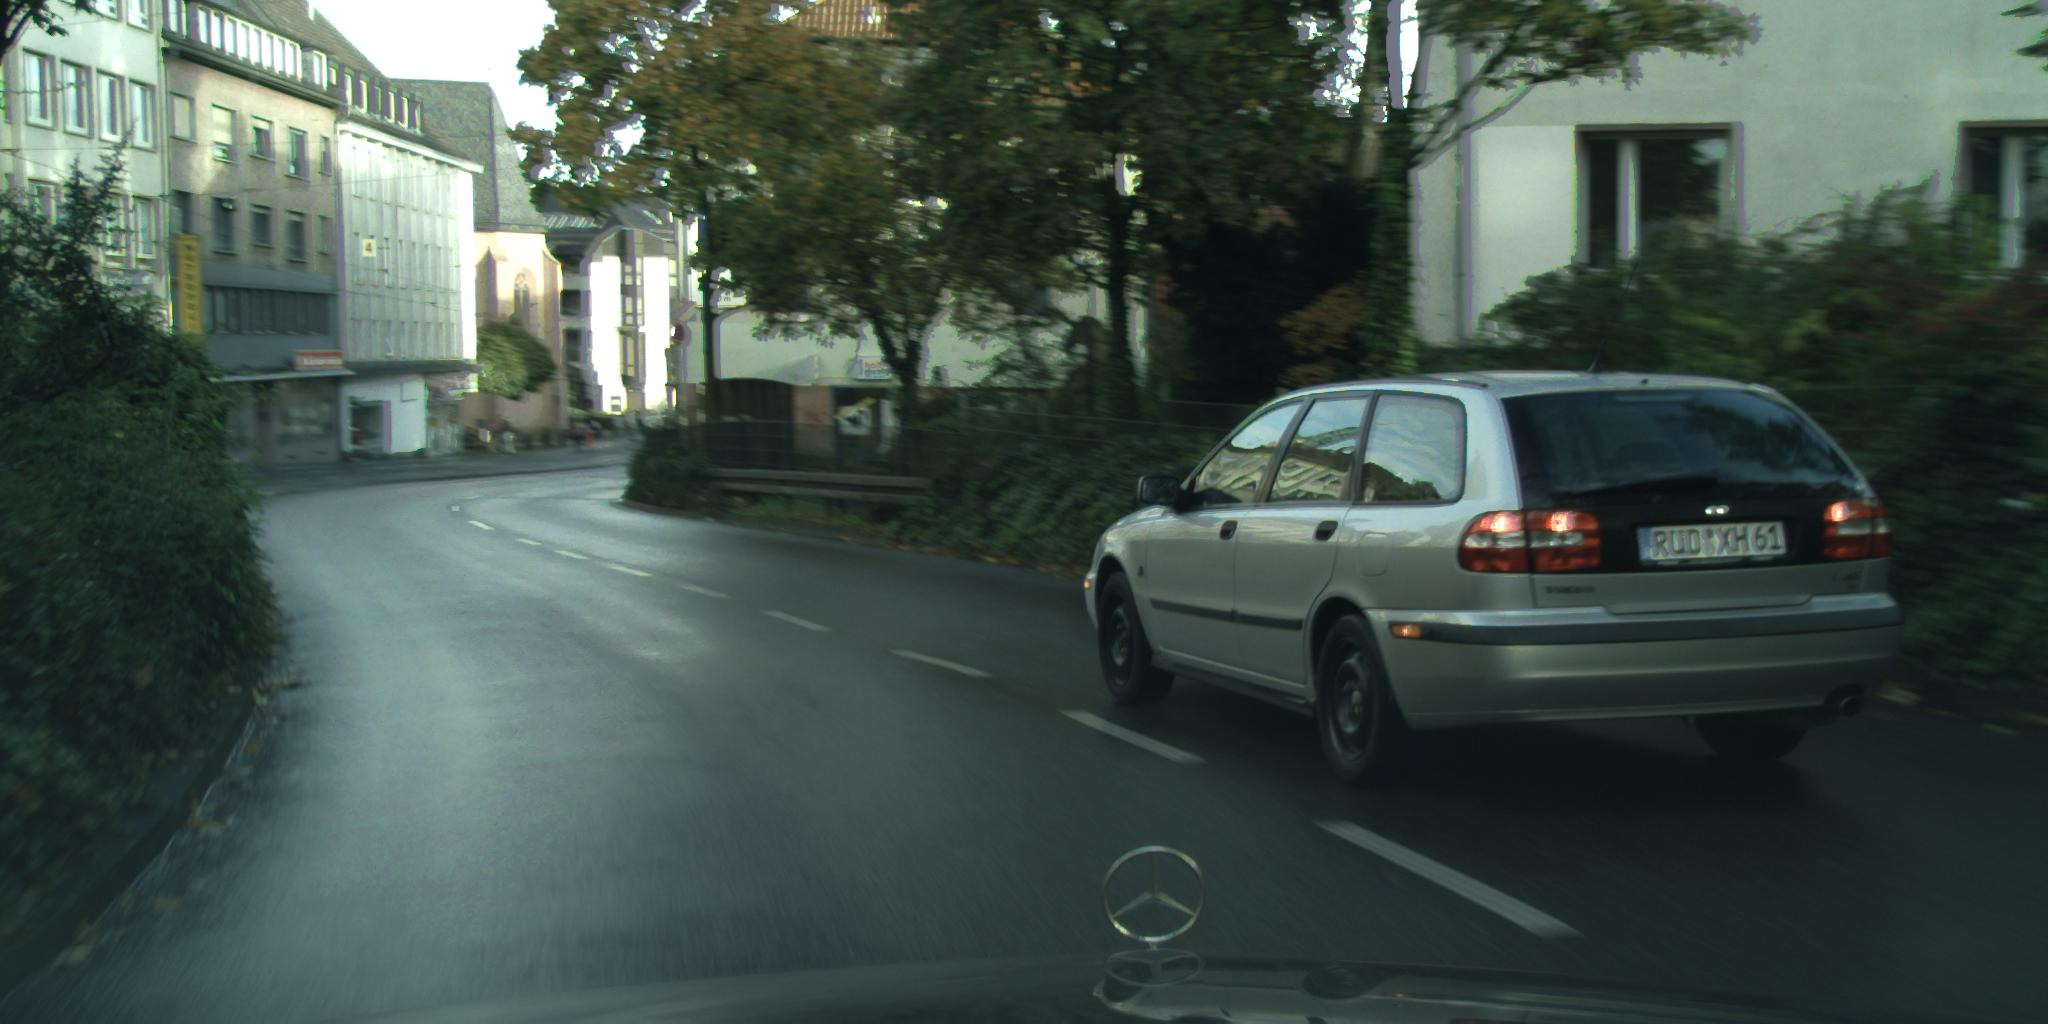car: (1083, 371, 1903, 790)
